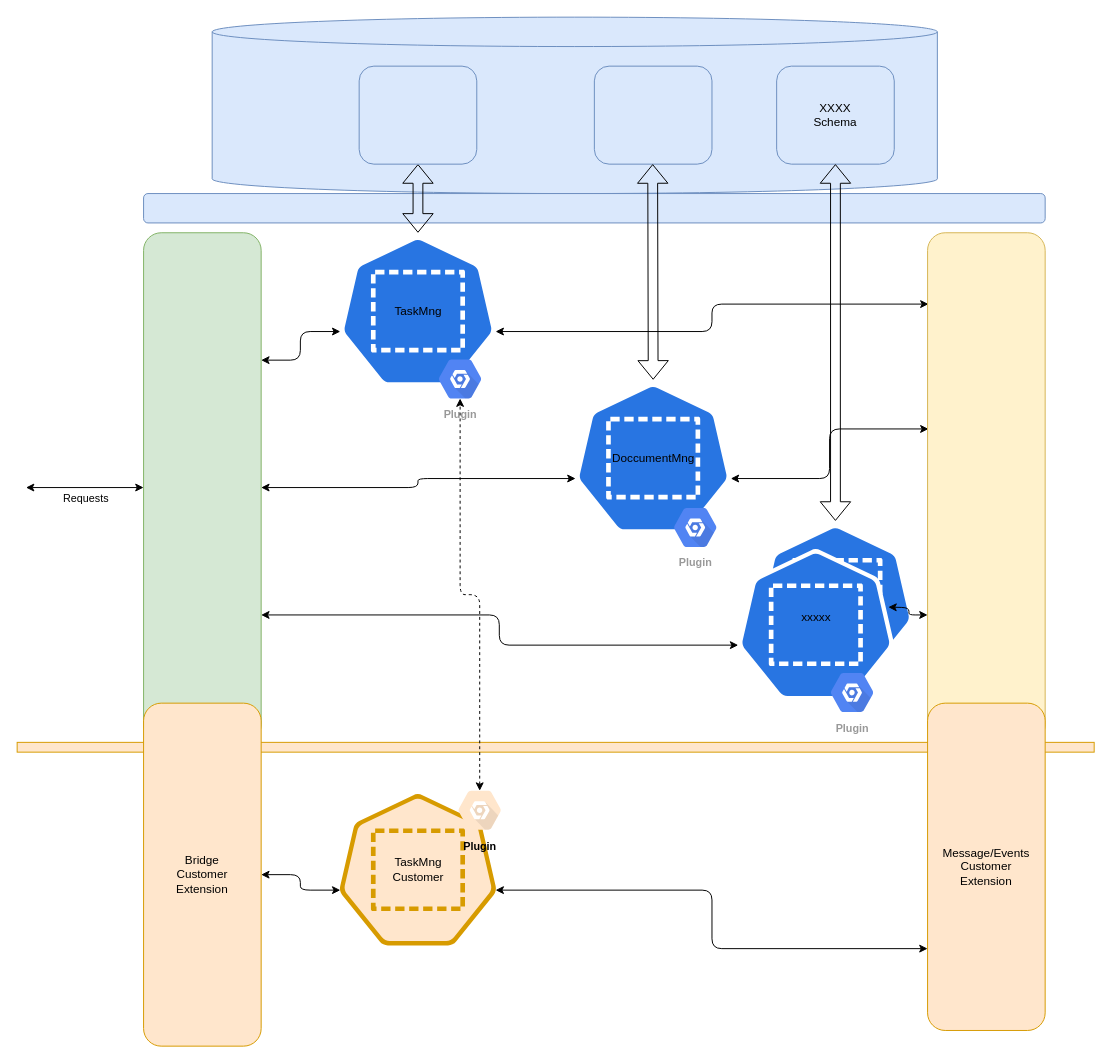
This 1111x1063 diagram has some shape labels left out. Each missing label, with the box of its shape:
Bridge: (143, 232, 261, 742)
Datasource: (143, 193, 1045, 223)
DB: (211, 16, 937, 194)
DocumenMng Schema: (593, 65, 712, 164)
Message/Events: (927, 232, 1045, 742)
TaskMng Schema: (358, 65, 477, 164)
